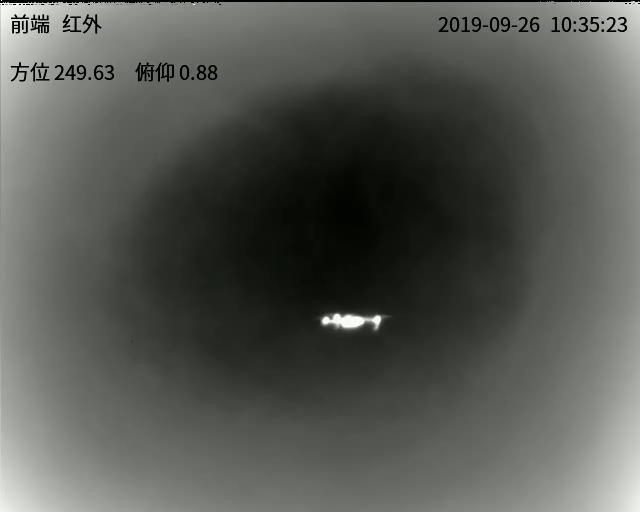uav: (318, 311, 388, 334)
